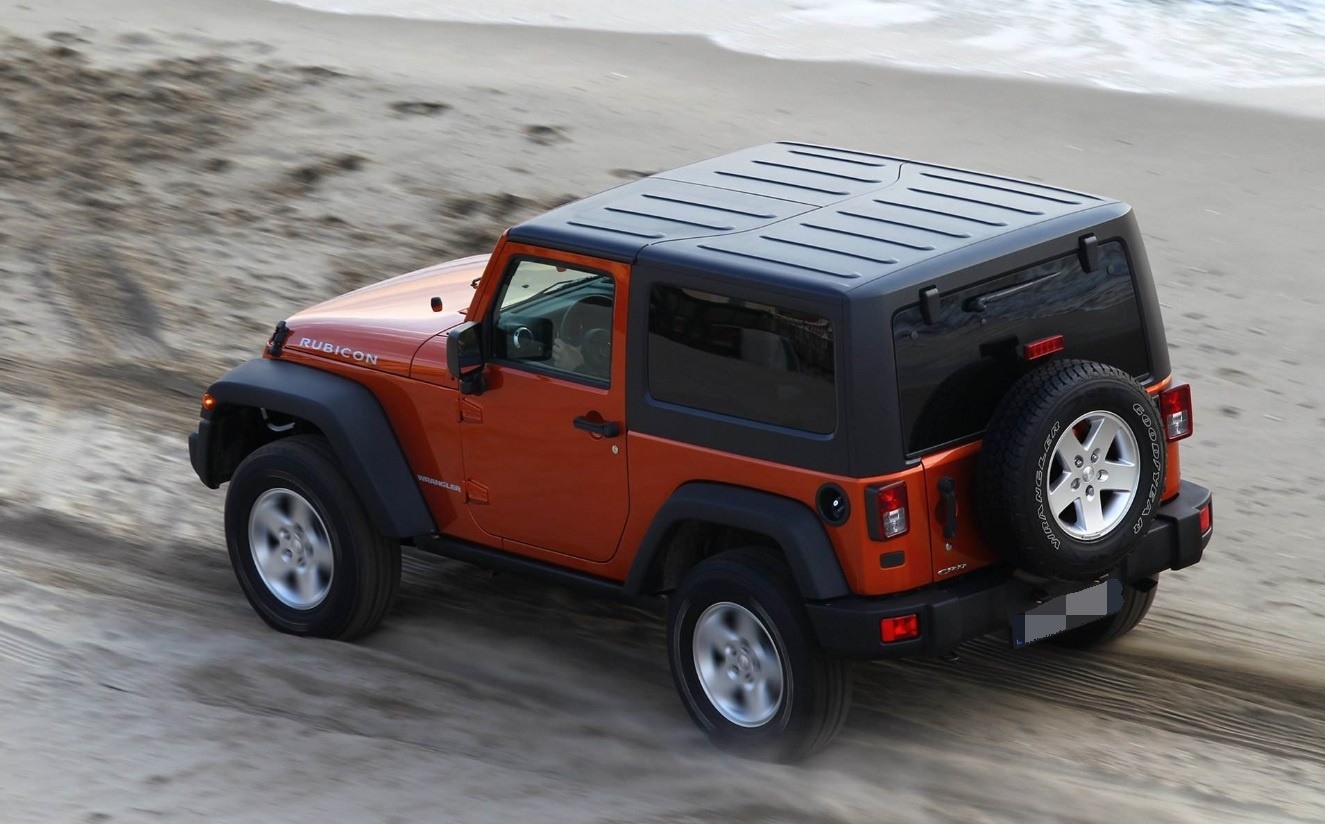jeep: (180, 129, 1215, 757)
